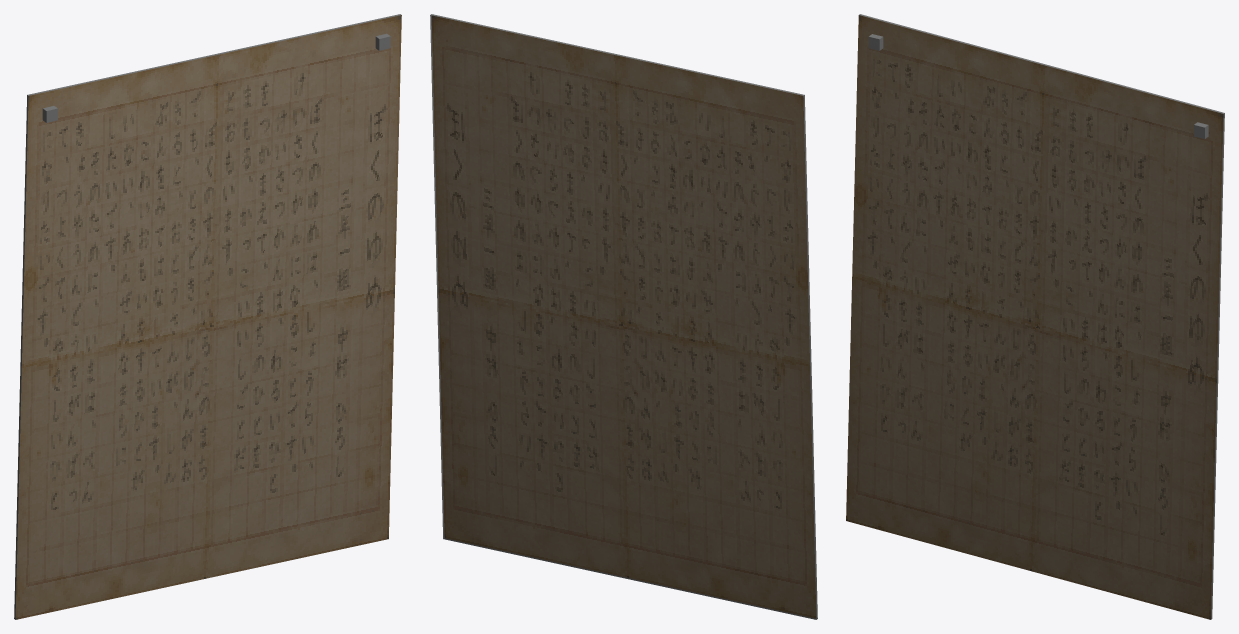
Rendered from prop_poster-sakubun-0.glb.
The picture shows the model from 3 angles, left to right: view 1: azimuth 30°, elevation 25°; view 2: azimuth 150°, elevation 25°; view 3: azimuth 330°, elevation 25°; orthographic projection. The views are drawn at different scales.
Parts seen in each view (by area): view 1: prop_poster-sakubun-0; view 2: prop_poster-sakubun-0; view 3: prop_poster-sakubun-0.
Boxes of the visible parts, x1=… form: prop_poster-sakubun-0: x1=14, y1=14, x2=401, y2=619; prop_poster-sakubun-0: x1=430, y1=14, x2=817, y2=619; prop_poster-sakubun-0: x1=846, y1=14, x2=1224, y2=619.
Bounding box in the file's own units: 0.4767 × 0.6262 × 0.0115.
2 materials, 2 textured.
